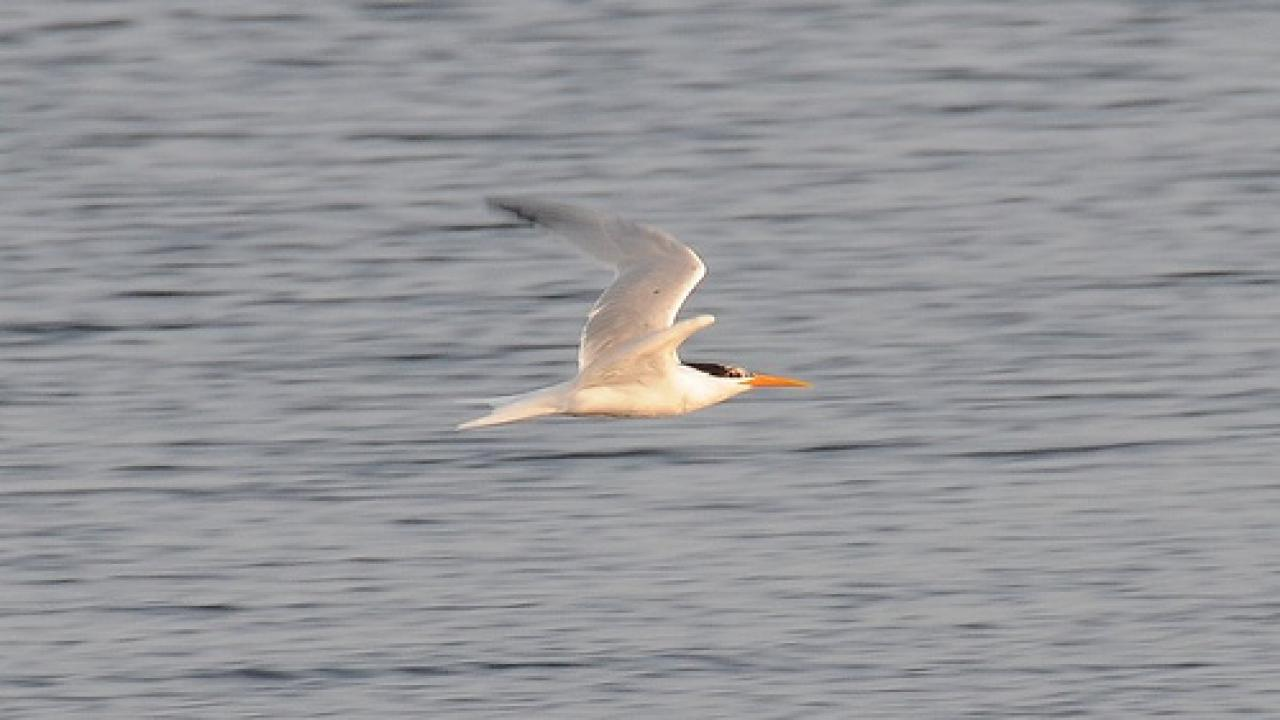Bird: (448, 185, 825, 446)
